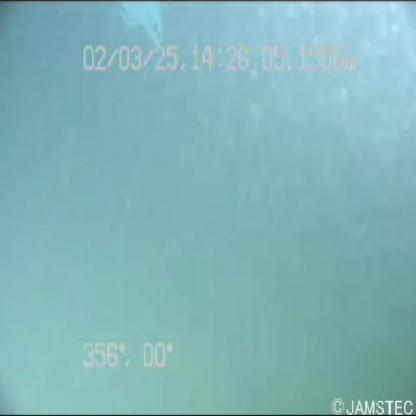Rác: (108, 1, 174, 51)
